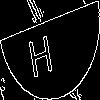H: (25, 25, 55, 79)
